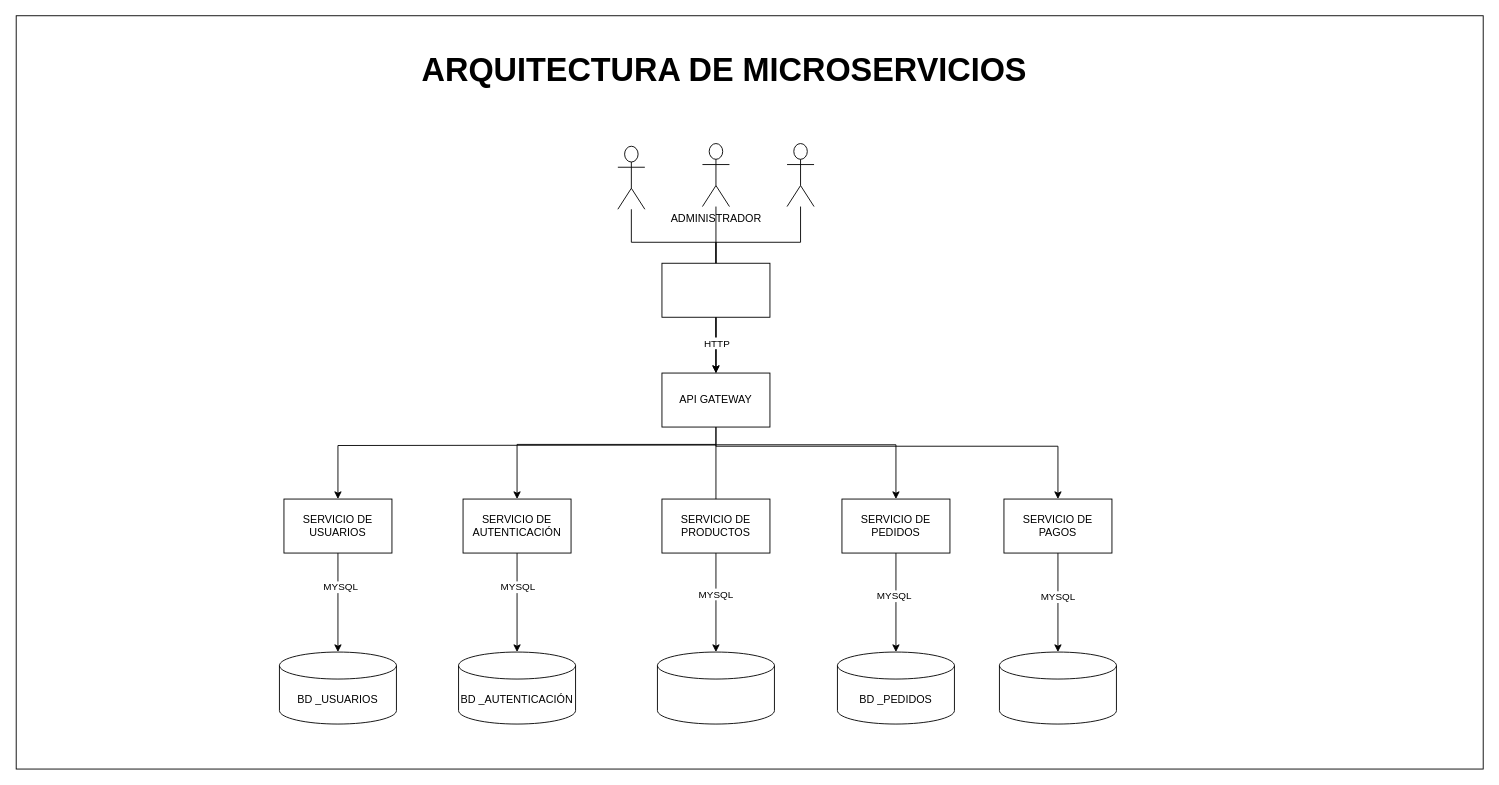
Image size: 1499x785. Some labels were removed from this diagram. The shapes that lost their labels are listed below. From the top down, each one's box as (x1, y1, x2, y2) in pixels, then its label:
(617, 145, 645, 209): CLIENTE
(786, 143, 814, 207): OPERADOR
(661, 262, 770, 317): HOME
(657, 651, 774, 724): BD _PRODCUTOS
(999, 651, 1116, 724): BD _PAGOS
